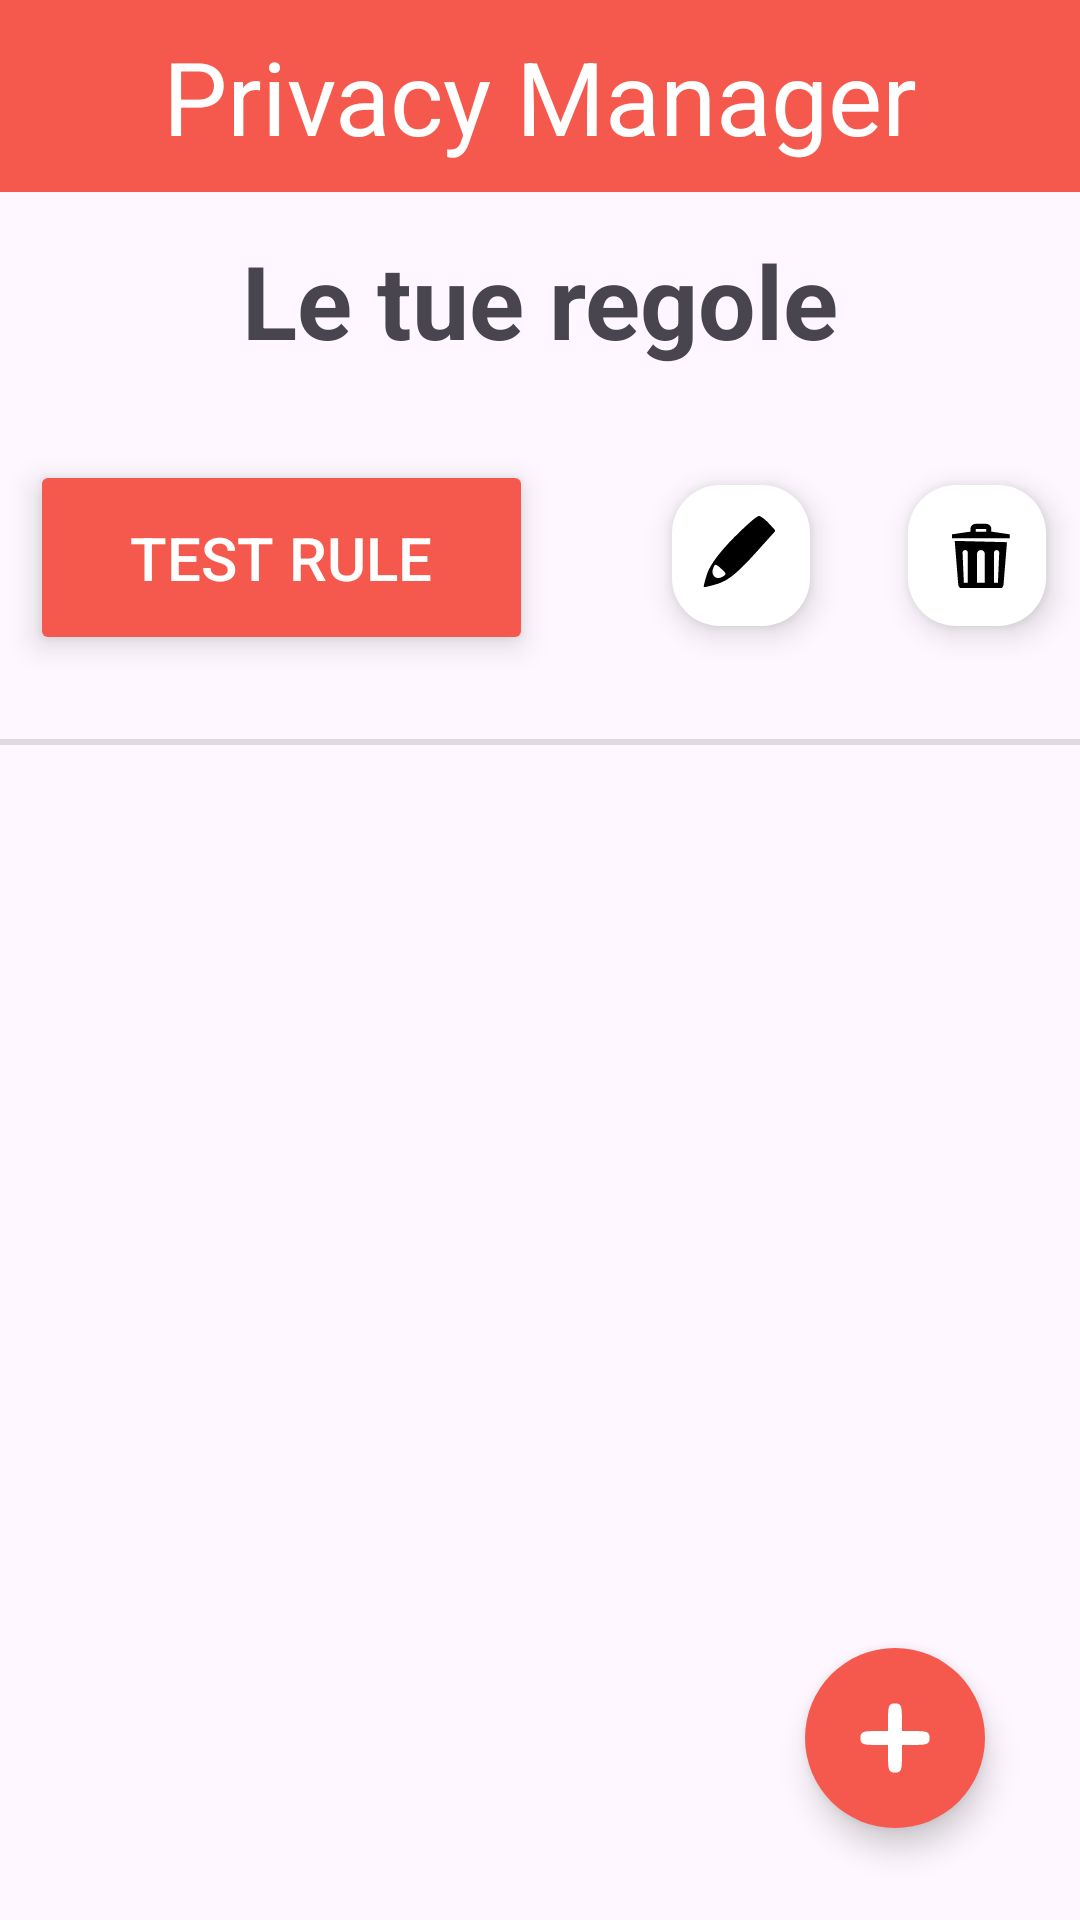

Screen size 1080w x 1920h. Icon name, then its center in pixels as (x=x, y=y):
Delete rule: (x=977, y=555)
Edit rule: (x=741, y=555)
New rule: (x=895, y=1738)
